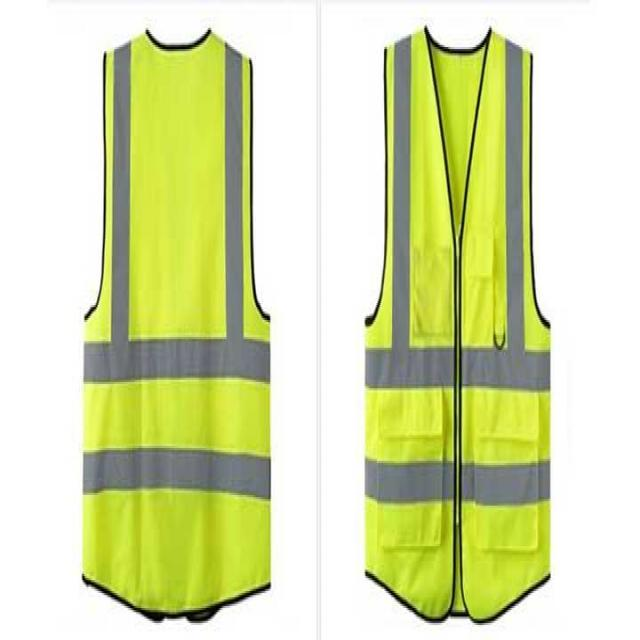construction-vest: (374, 40, 543, 617), (93, 50, 262, 616)
